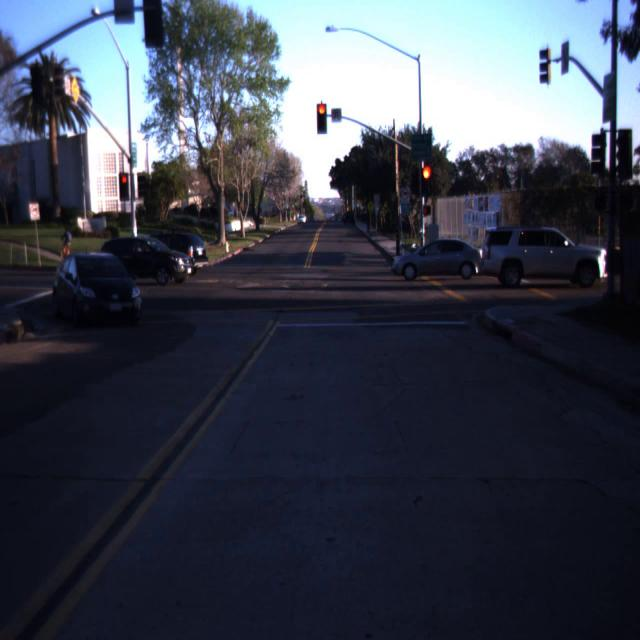arka_lamba: (143, 0, 164, 48)
kirmizi: (316, 100, 327, 134), (118, 172, 129, 201)
